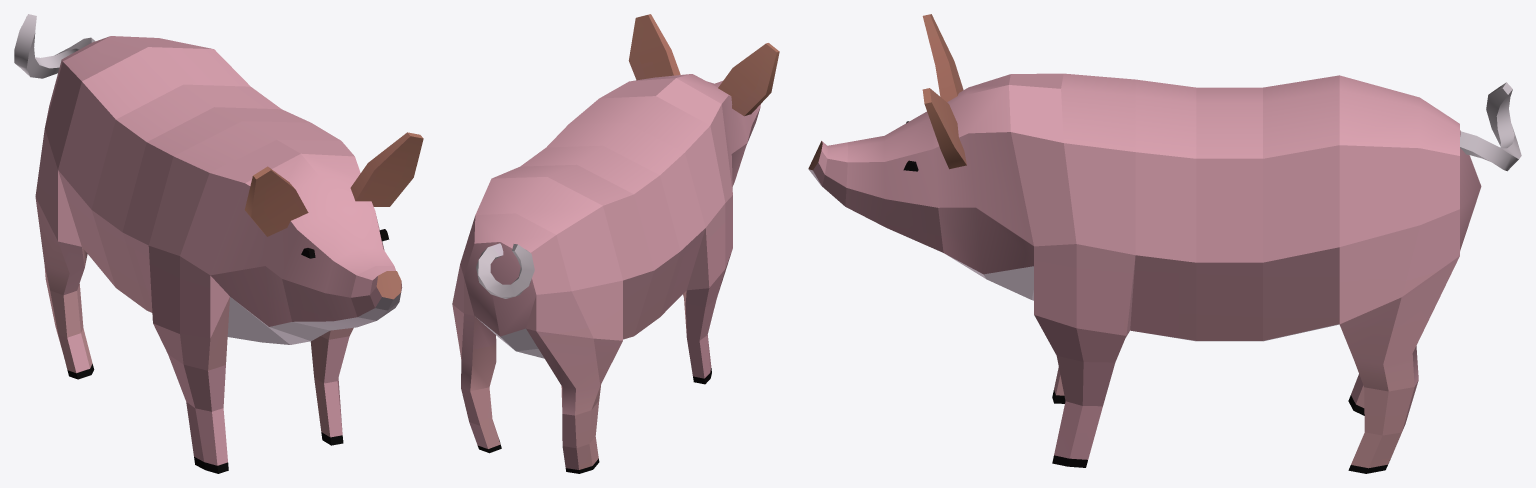
Rendered from 6XC3XssJIU_.glb.
3 renders of one model, left to right at view 1: azimuth 30°, elevation 25°; view 2: azimuth 150°, elevation 25°; view 3: azimuth 270°, elevation 25°, orthographic. The views are drawn at different scales.
Visible parts, largest first — view 1: Geo_Pig; view 2: Geo_Pig; view 3: Geo_Pig.
Part boxes in pixels (box(x1,y1,x2,y2)): Geo_Pig: box(14, 14, 423, 473); Geo_Pig: box(452, 14, 779, 473); Geo_Pig: box(808, 14, 1521, 473).
Size of the model in its own units: 0.546 by 1 by 1.67.
Materials: 1 (1 with a texture image).
